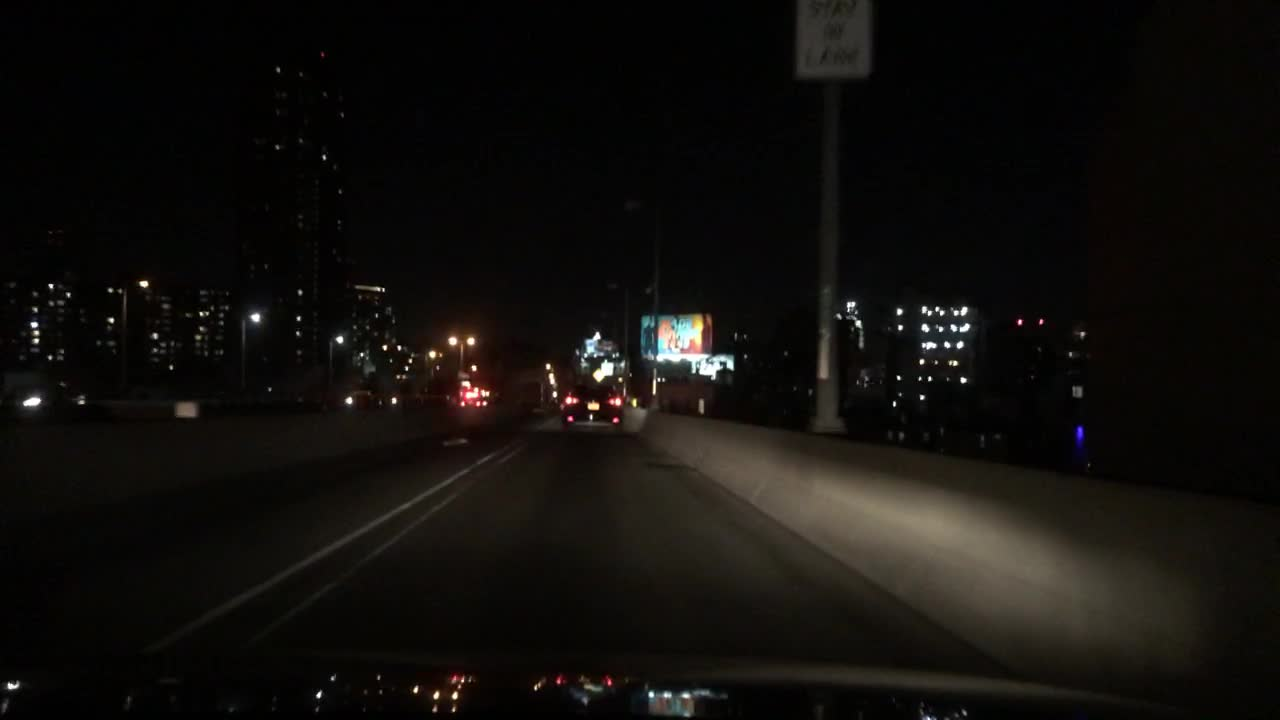car: (0, 368, 98, 425), (558, 383, 624, 435), (337, 374, 408, 413), (455, 395, 474, 408), (471, 398, 491, 407)
traffic sign: (795, 0, 869, 72), (594, 368, 607, 382)
